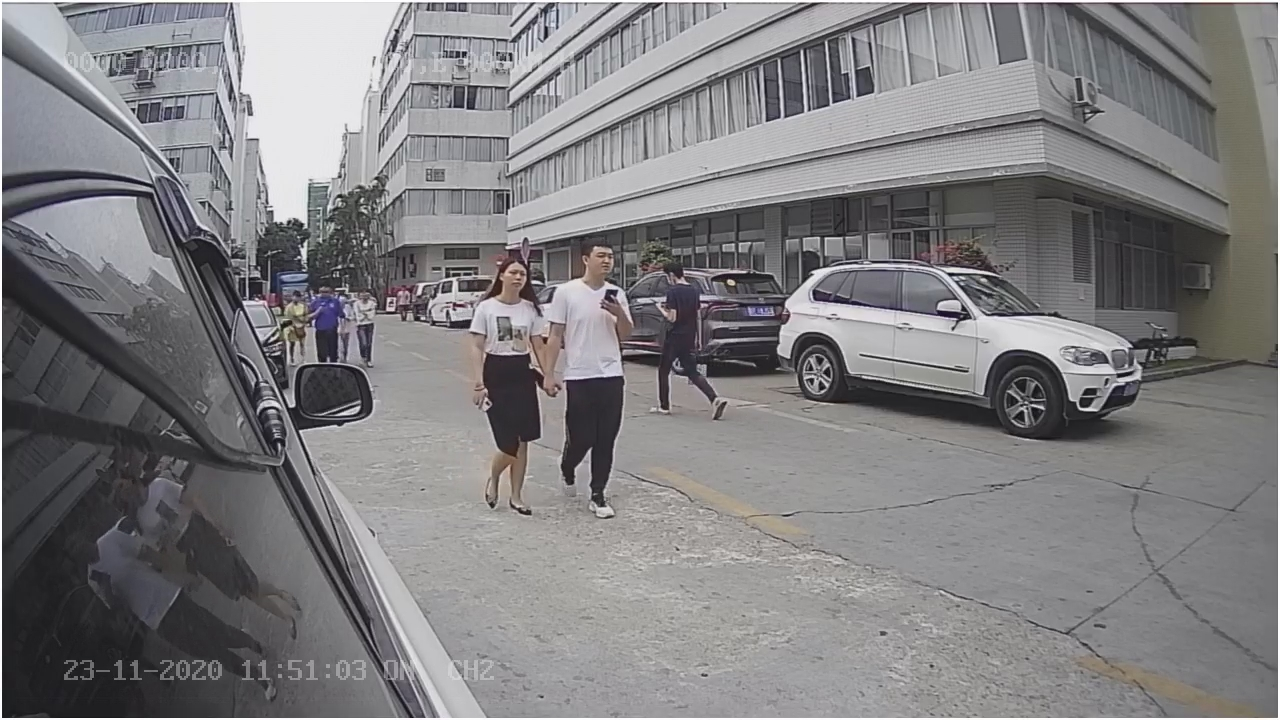person: (464, 256, 549, 517), (651, 249, 737, 425)
